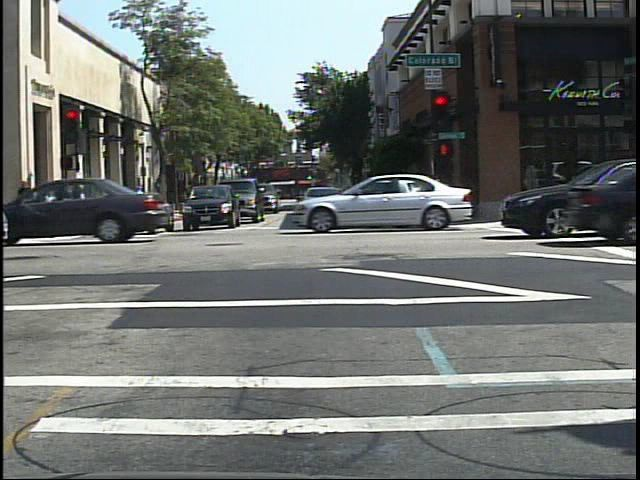person: (130, 181, 149, 219), (136, 181, 151, 217)
